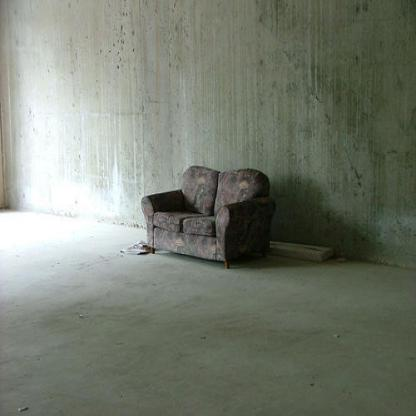sofa: (141, 164, 277, 271)
